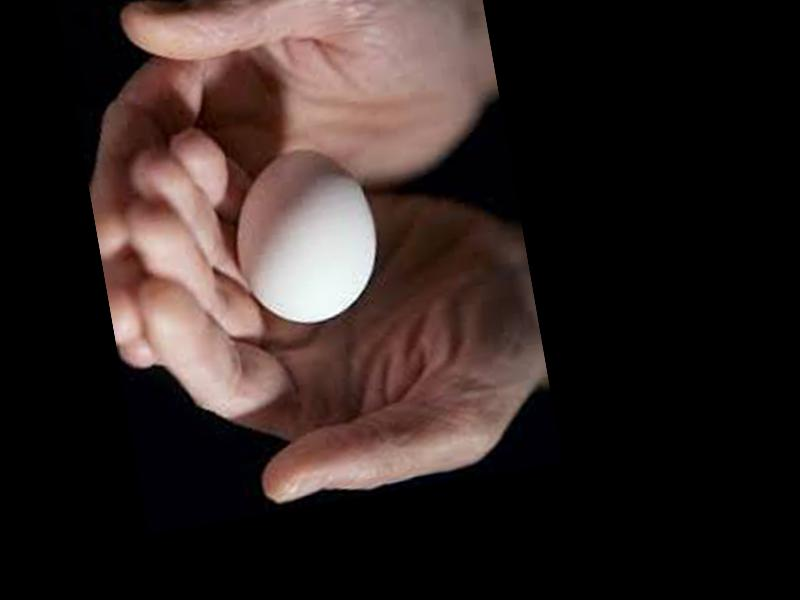Eggs: (223, 141, 390, 333)
